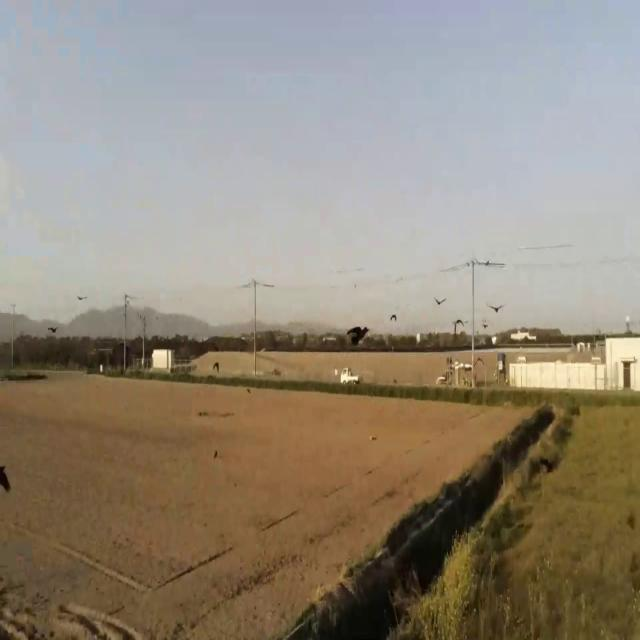bird: (489, 297, 504, 319), (434, 291, 446, 312), (452, 312, 463, 334), (390, 306, 397, 326)
